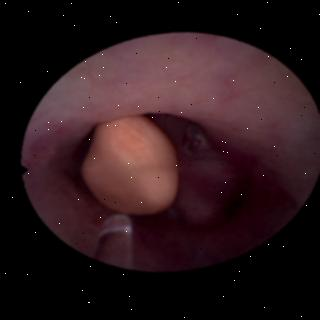stone: (80, 119, 174, 216)
tissue: (23, 39, 317, 272)
